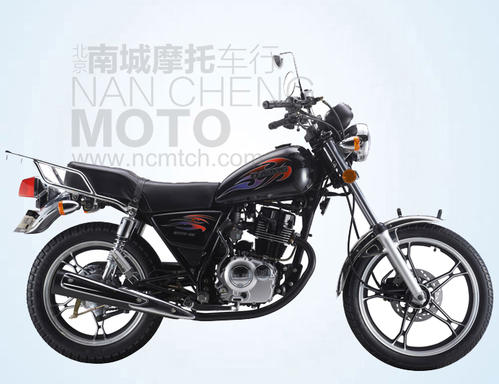motor: (24, 84, 491, 376)
